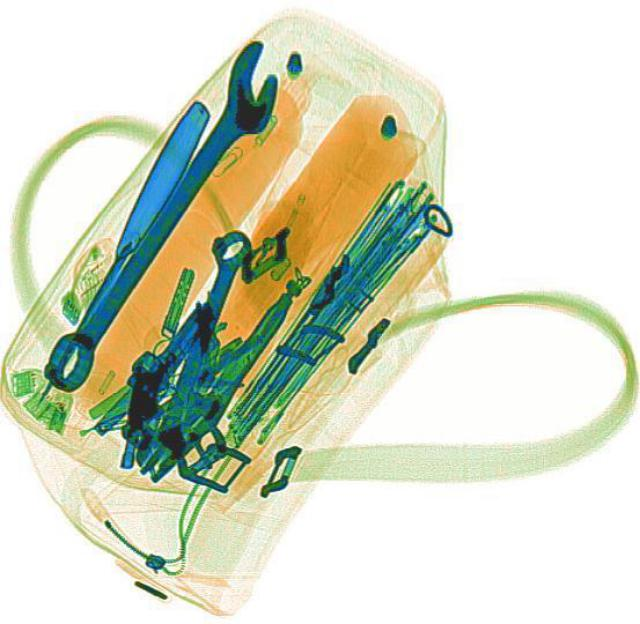Gun: (112, 294, 214, 474)
Knife: (21, 97, 216, 407)
Wrench: (27, 34, 306, 400), (131, 222, 257, 472)
